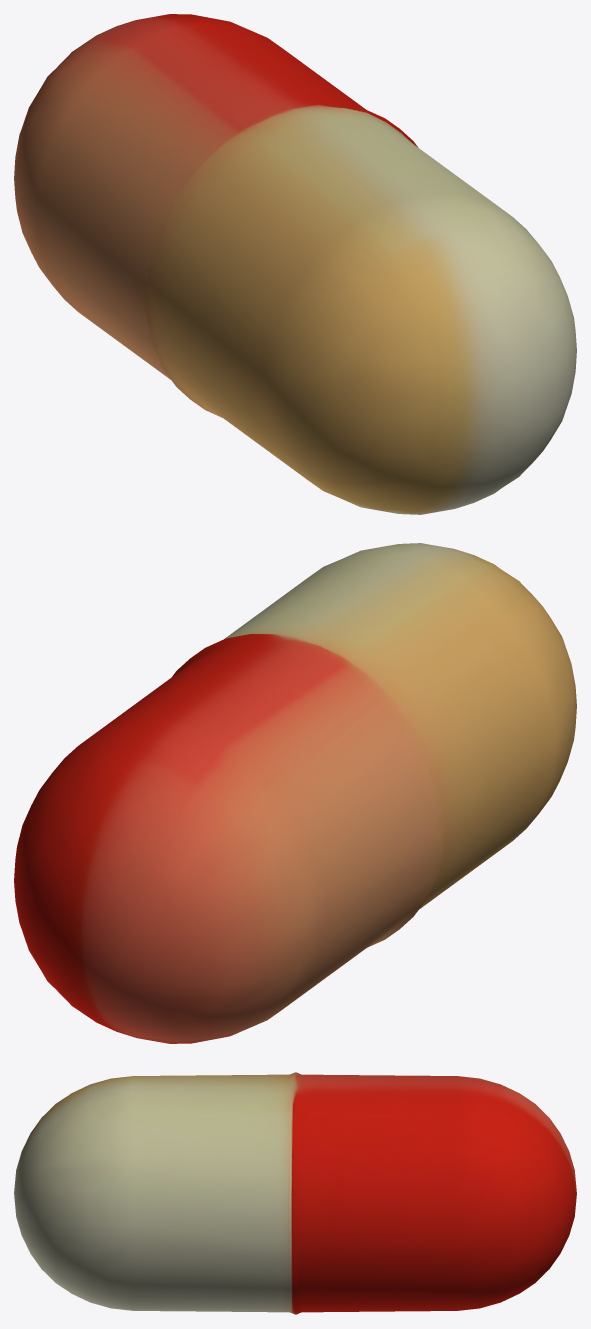
3 views of the same model, one above another, from view 1: azimuth 30°, elevation 25°; view 2: azimuth 150°, elevation 25°; view 3: azimuth 270°, elevation 25° (orthographic). The views are drawn at different scales.
Visible parts, largest first — view 1: tripo_node_9d974df4; view 2: tripo_node_9d974df4; view 3: tripo_node_9d974df4.
Part boxes in pixels (x1,y1,x2,y2): tripo_node_9d974df4: (14,14,576,514); tripo_node_9d974df4: (14,543,576,1043); tripo_node_9d974df4: (14,1072,576,1314).
Size of the model in its own units: 0.4277 by 0.4277 by 0.998.
1 material, 1 textured.
